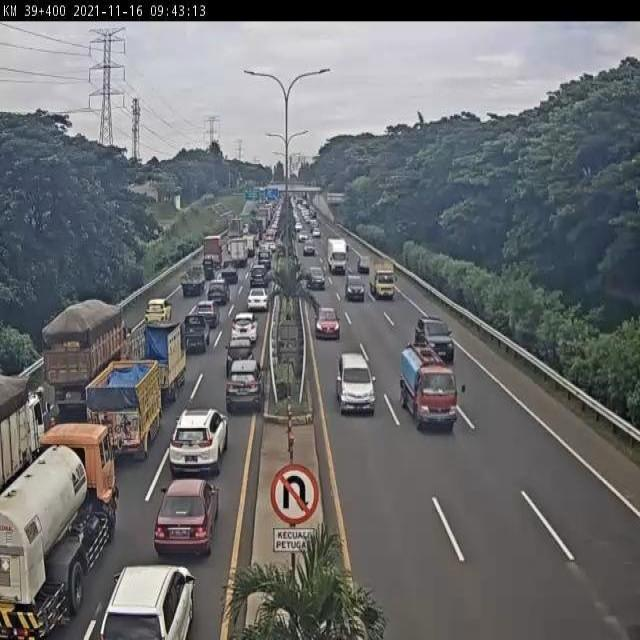Car: (96, 564, 197, 638), (153, 477, 220, 558), (170, 406, 230, 477), (336, 351, 376, 417), (225, 358, 265, 414), (182, 313, 211, 354), (226, 335, 257, 371), (230, 314, 258, 348), (314, 304, 340, 340), (192, 300, 220, 332), (344, 273, 365, 303), (207, 279, 230, 306), (247, 288, 269, 312), (306, 266, 326, 291), (220, 260, 238, 284), (250, 263, 267, 285), (257, 248, 272, 269), (357, 254, 370, 274), (302, 240, 316, 256), (262, 240, 276, 255), (298, 230, 308, 242), (294, 222, 302, 233), (312, 228, 320, 238), (310, 211, 317, 222)
Truck: (0, 434, 115, 638), (40, 300, 126, 424), (86, 360, 162, 461), (398, 342, 456, 431), (140, 316, 188, 402), (368, 259, 395, 301), (203, 234, 225, 274), (327, 238, 348, 276), (227, 238, 249, 269)
